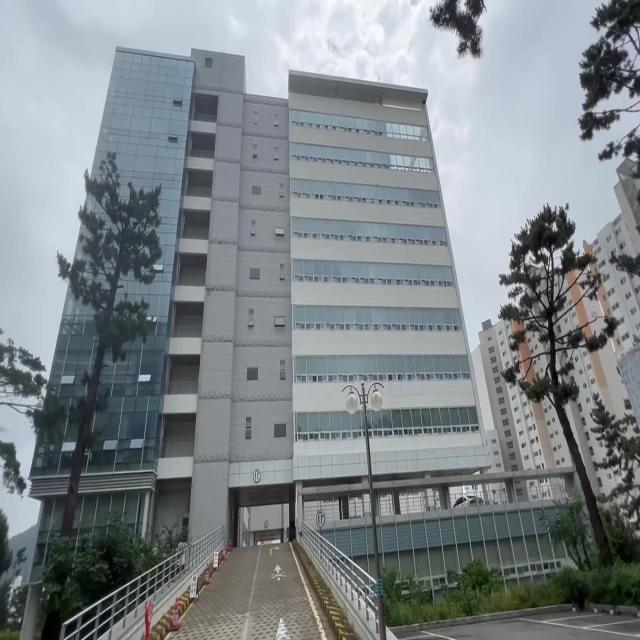building: (160, 45, 460, 465)
